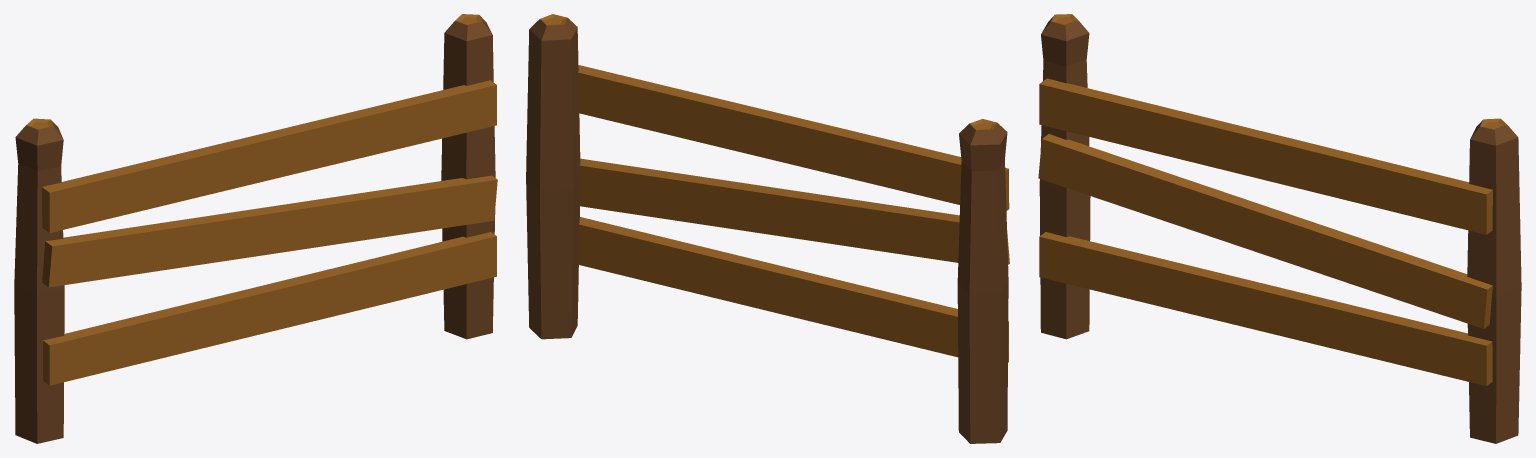
File: Fence3.fbx
3 renders of one model, left to right at view 1: azimuth 30°, elevation 25°; view 2: azimuth 150°, elevation 25°; view 3: azimuth 330°, elevation 25°, orthographic.
Visible parts, largest first — view 1: Cube.002, Cube, Cube.001, Cylinder.001, Cylinder.000; view 2: Cube.002, Cube, Cube.001, Cylinder.000, Cylinder.001; view 3: Cube.001, Cube.002, Cube, Cylinder.000, Cylinder.001.
Boxes of the visible parts, x1,y1,x2,y2 form: Cube.002: (42,80,496,232); Cube: (43,232,496,385); Cube.001: (42,175,497,287); Cylinder.001: (14,118,64,443); Cylinder.000: (441,14,495,339); Cube.002: (578,65,1009,210); Cube: (578,217,1008,362); Cube.001: (579,158,1009,264); Cylinder.000: (526,14,580,339); Cylinder.001: (957,119,1008,443); Cube.001: (1038,134,1492,328); Cube.002: (1039,78,1492,234); Cube: (1039,232,1492,385); Cylinder.000: (1467,118,1521,443); Cylinder.001: (1039,14,1090,339).
Bounding box in the file's own units: 369 × 230 × 42.51.
